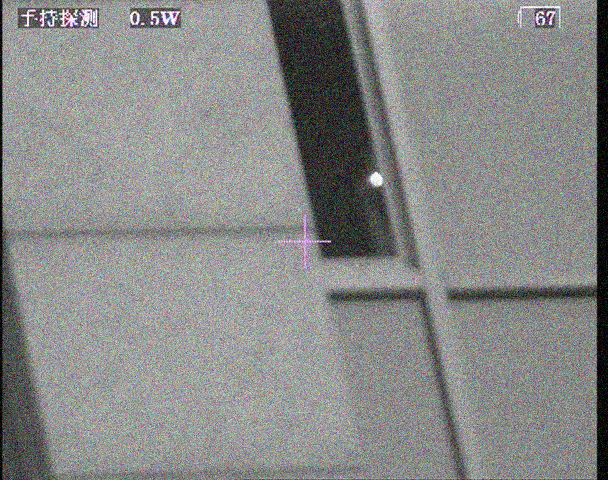my: (368, 170, 384, 187)
